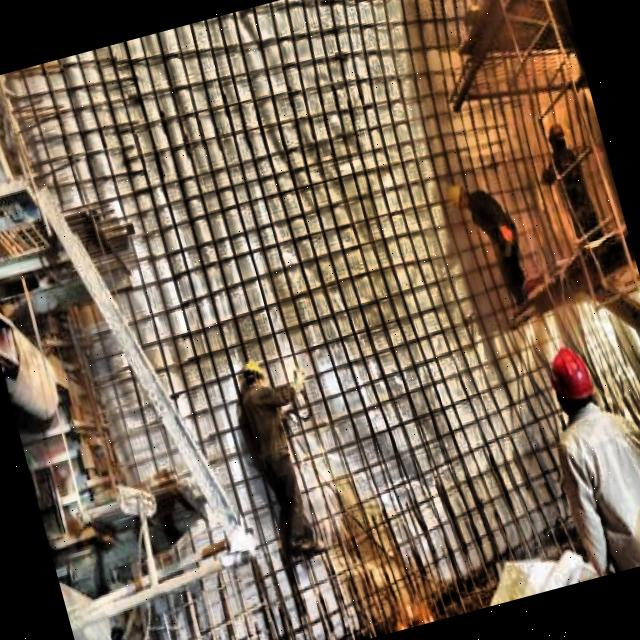helmet: (542, 336, 605, 426), (239, 357, 272, 399), (444, 174, 474, 217), (542, 114, 570, 154)
